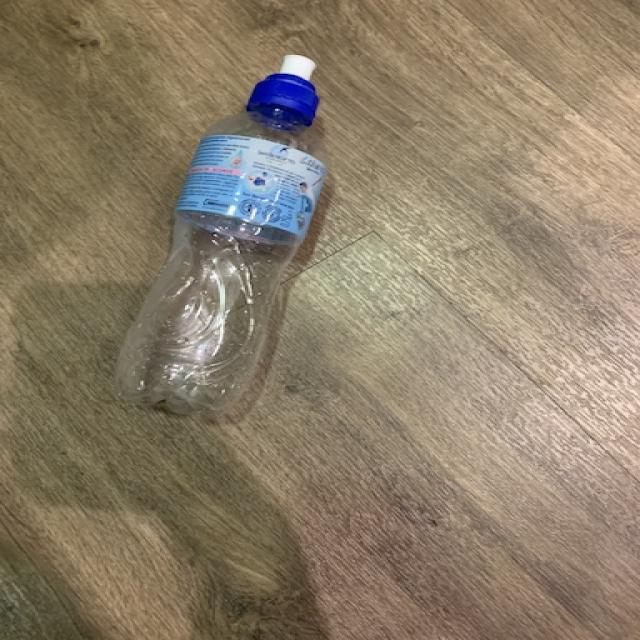Waste: (118, 55, 327, 413)
